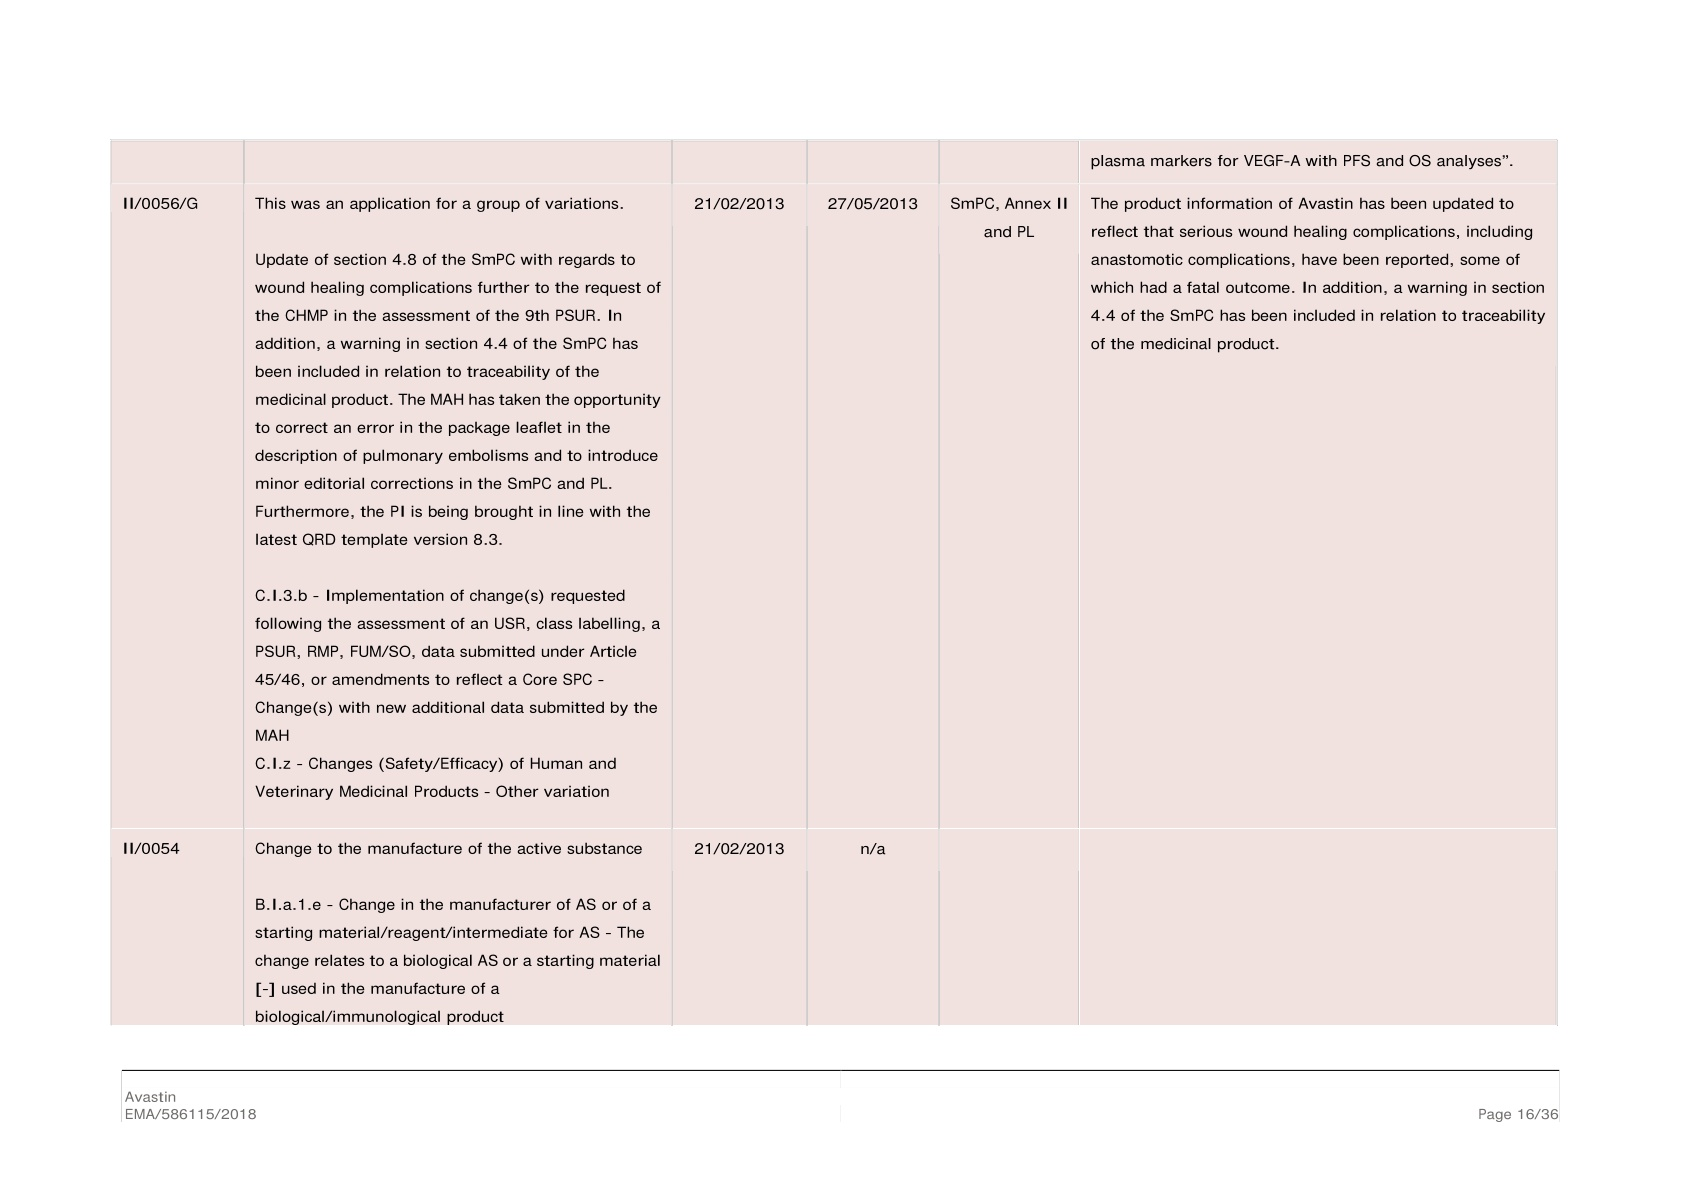full_lined: (108, 138, 1558, 1026)
